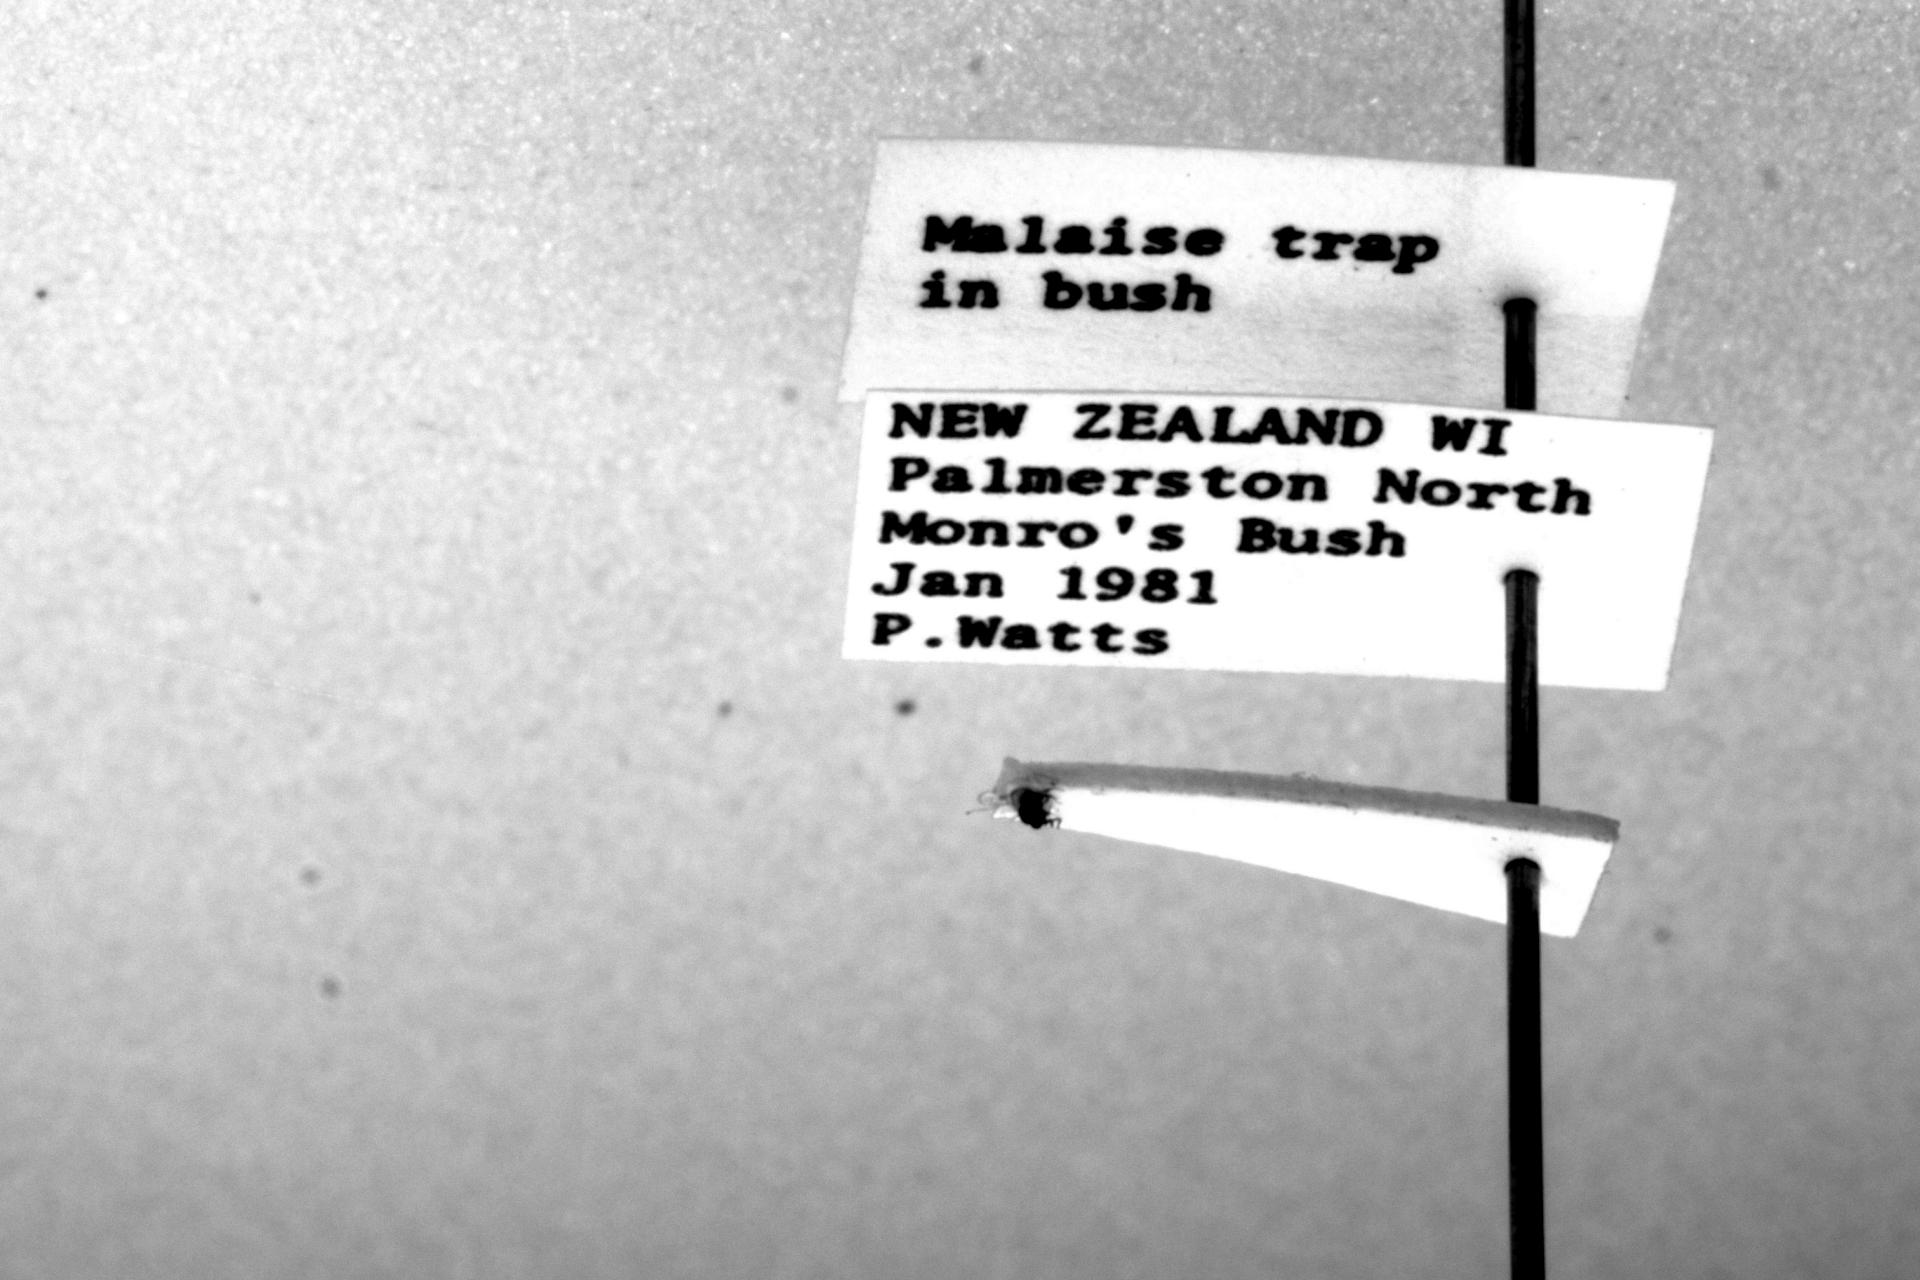typed_label: (844, 390, 1710, 690), (840, 139, 1673, 420)
